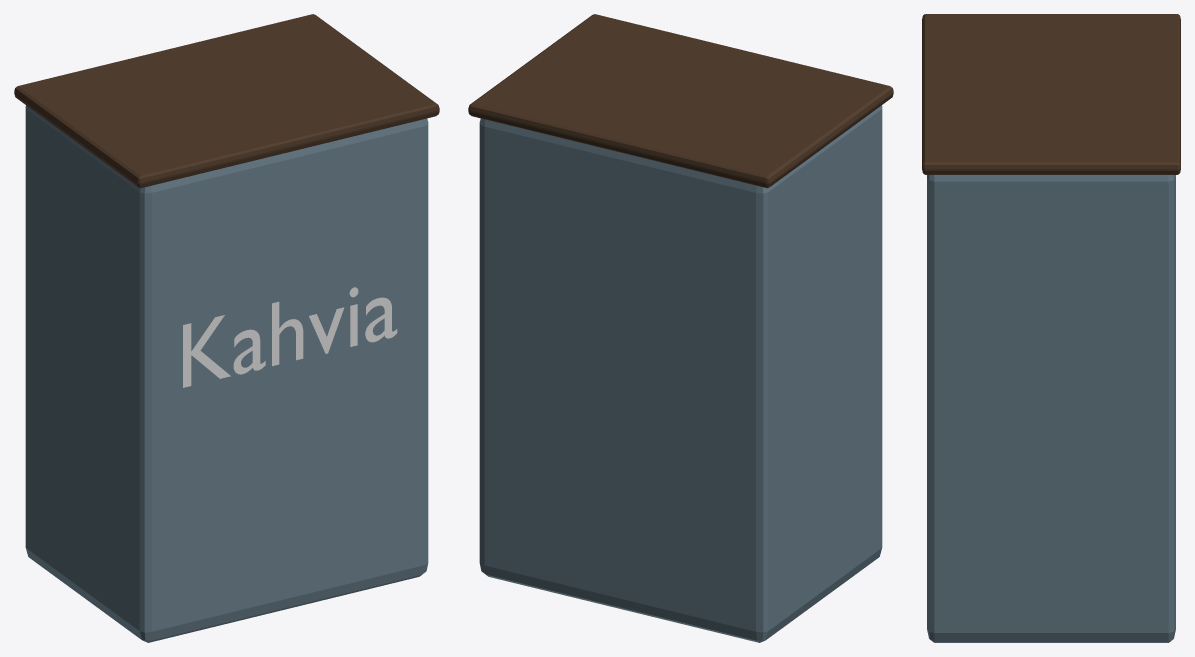
Rendered from coffee_canister.fbx.
3 renders of one model, left to right at view 1: azimuth 30°, elevation 25°; view 2: azimuth 150°, elevation 25°; view 3: azimuth 270°, elevation 25°, orthographic. The views are drawn at different scales.
Parts seen in each view (by area): view 1: kahvipurkki, Text; view 2: kahvipurkki; view 3: kahvipurkki.
Boxes of the visible parts, x1=… form: kahvipurkki: x1=14, y1=14, x2=439, y2=642; Text: x1=183, y1=287, x2=397, y2=387; kahvipurkki: x1=468, y1=14, x2=893, y2=642; kahvipurkki: x1=922, y1=14, x2=1180, y2=642.
Bounding box in the file's own units: 11.53 × 17.24 × 8.31.
